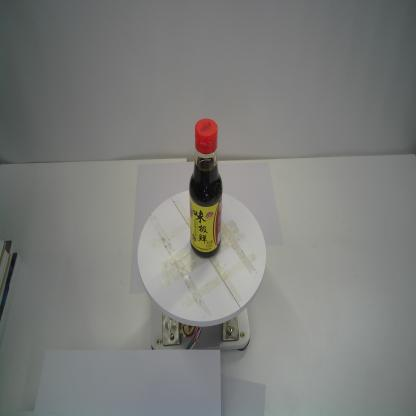Seasoner: (188, 116, 224, 258)
